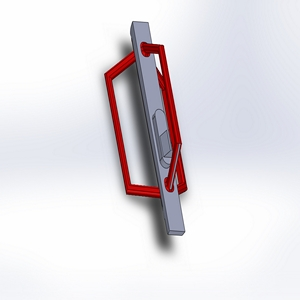submarine: (82, 10, 209, 253)
